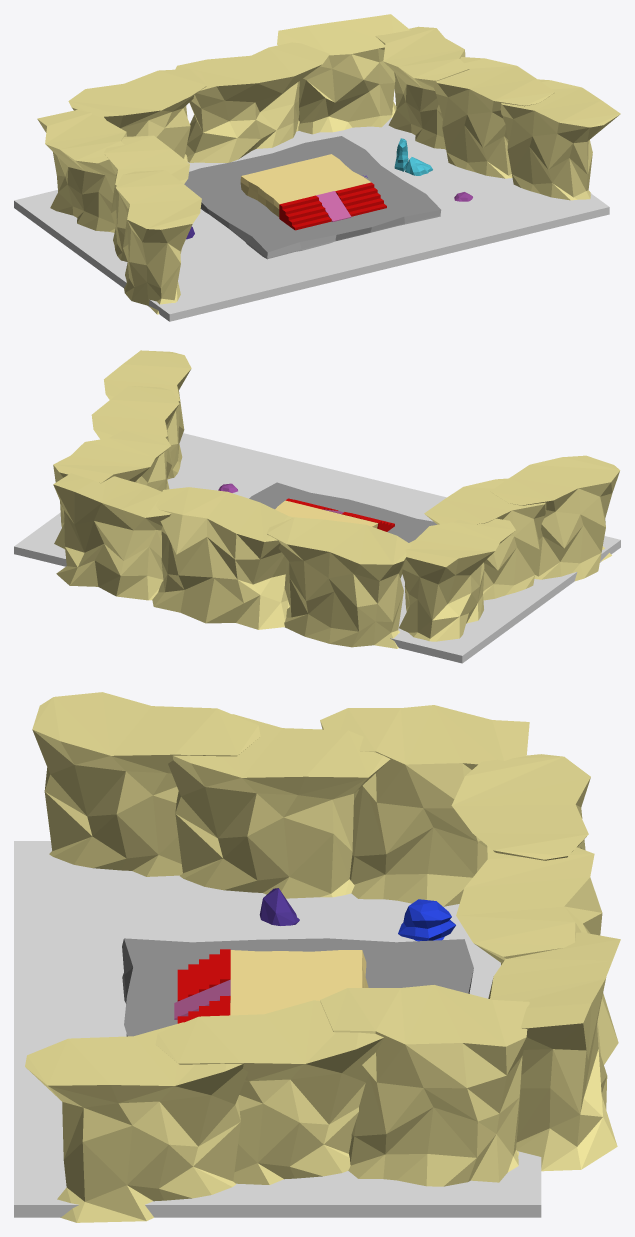
Rendered from Bomb_Tag_Environment_v3.FBX.
The picture shows the model from 3 angles, top to bottom: view 1: azimuth 30°, elevation 25°; view 2: azimuth 150°, elevation 25°; view 3: azimuth 270°, elevation 25°; orthographic projection. The views are drawn at different scales.
Visible parts, largest first — view 1: Lava, Rock_Platforn1, Cylinder005, Cylinder003, Cylinder009, Cylinder010, Cylinder011, Cylinder007, Cylinder004, Cylinder002, Rock_Platforn2, Cylinder012 (+4 smaller); view 2: Cylinder005, Lava, Cylinder004, Cylinder003, Cylinder011, Cylinder007, Cylinder012, Cylinder010, Cylinder002, Cylinder009, Rock_Platforn1, Rock_Platforn2; view 3: Lava, Cylinder002, Cylinder009, Cylinder012, Cylinder011, Cylinder007, Cylinder010, Cylinder003, Cylinder005, Rock_Platforn1, Cylinder004, Rock_Platforn2 (+4 smaller).
Part boxes in pixels (<box>): Lava: <box>14,117,609,321</box>; Rock_Platforn1: <box>184,136,441,259</box>; Cylinder005: <box>175,42,329,162</box>; Cylinder003: <box>277,14,410,134</box>; Cylinder009: <box>500,79,620,200</box>; Cylinder010: <box>433,57,555,178</box>; Cylinder011: <box>116,170,201,314</box>; Cylinder007: <box>37,109,126,232</box>; Cylinder004: <box>68,69,207,161</box>; Cylinder002: <box>375,26,469,148</box>; Rock_Platforn2: <box>240,154,371,216</box>; Cylinder012: <box>104,135,189,261</box>; Cylinder005: <box>152,487,293,629</box>; Lava: <box>14,433,620,663</box>; Cylinder004: <box>267,517,410,648</box>; Cylinder003: <box>53,473,171,600</box>; Cylinder011: <box>490,455,620,581</box>; Cylinder007: <box>399,518,515,641</box>; Cylinder012: <box>424,478,546,600</box>; Cylinder010: <box>91,386,179,491</box>; Cylinder002: <box>53,430,170,549</box>; Cylinder009: <box>104,350,191,479</box>; Rock_Platforn1: <box>249,482,436,542</box>; Rock_Platforn2: <box>275,500,378,528</box>; Lava: <box>14,841,541,1217</box>; Cylinder002: <box>320,985,529,1186</box>; Cylinder009: <box>25,1022,248,1222</box>; Cylinder012: <box>168,714,390,898</box>; Cylinder011: <box>32,692,260,876</box>; Cylinder007: <box>320,705,529,906</box>; Cylinder010: <box>155,1000,383,1184</box>; Cylinder003: <box>488,932,620,1171</box>; Cylinder005: <box>456,846,618,1064</box>; Rock_Platforn1: <box>122,938,473,1036</box>; Cylinder004: <box>451,754,590,860</box>; Rock_Platforn2: <box>230,950,368,1015</box>.
Size of the model in its own units: 777 by 149 by 504.
